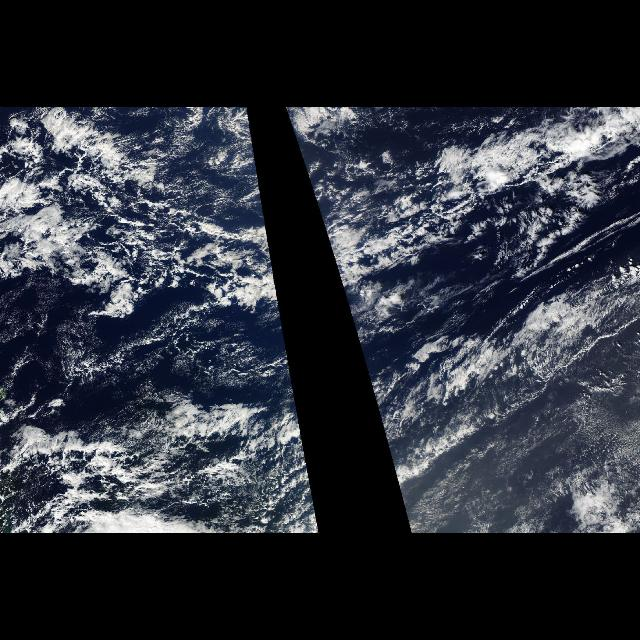Fish: (286, 109, 638, 481), (12, 108, 286, 350)
Gravel: (80, 168, 242, 318)
